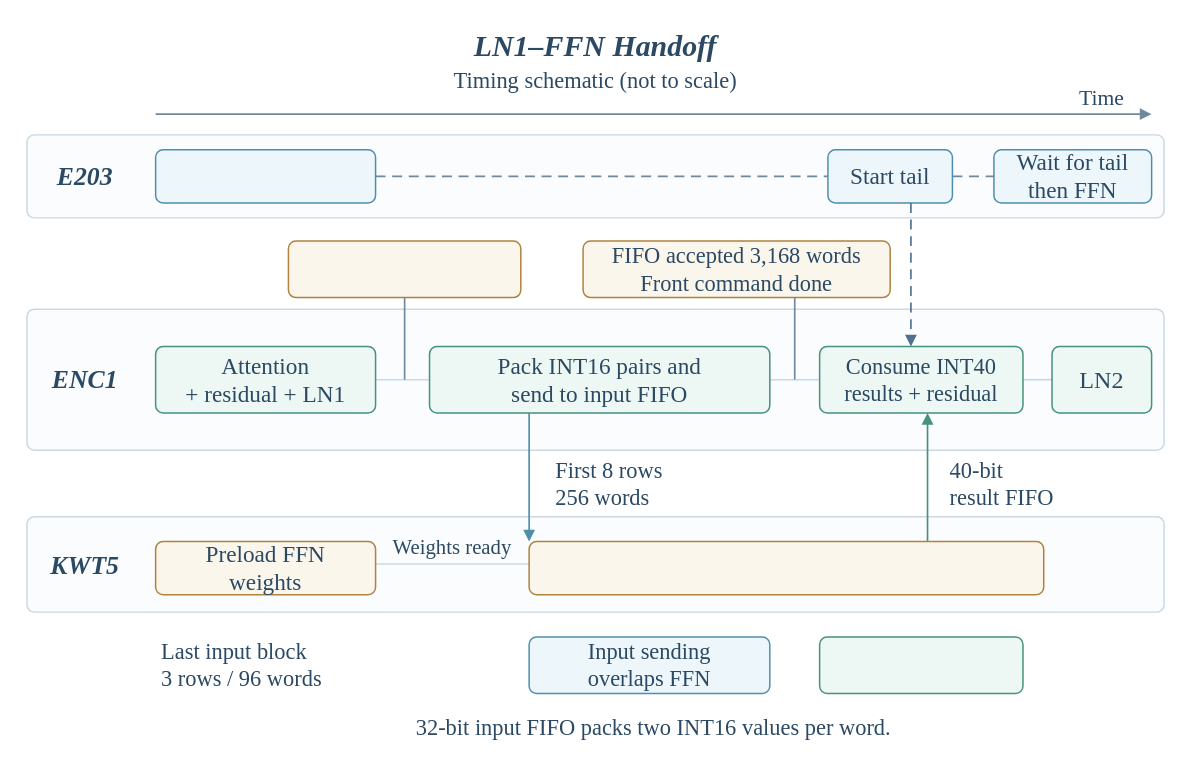
Some shapes in this 1192 by 777 pixel diagram are drawn without their labels. The centre of each missing label's shape, as x and y in pixels:
FFN overlaps result consumption: [920,665]
FFN1 → GELU → FFN2: [786,567]
LN1 arithmetic complete: [404,269]
Start preload + front: [265,176]
